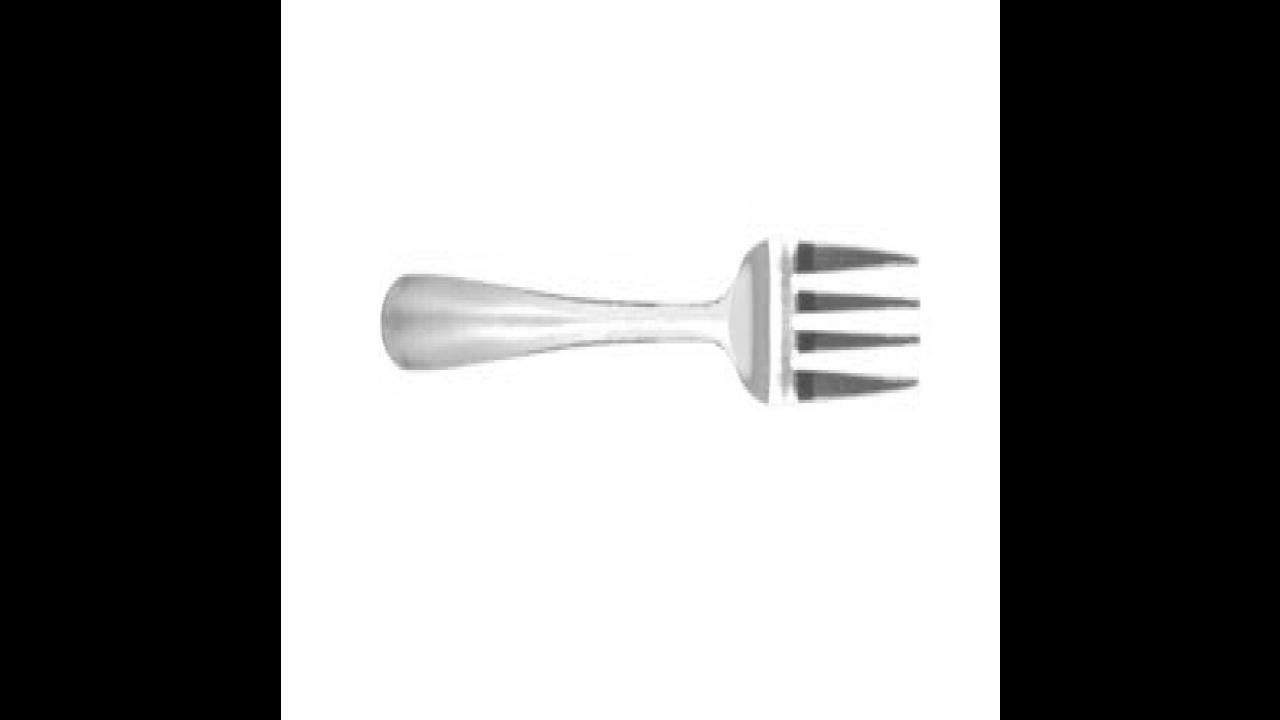fork: (381, 234, 922, 406)
